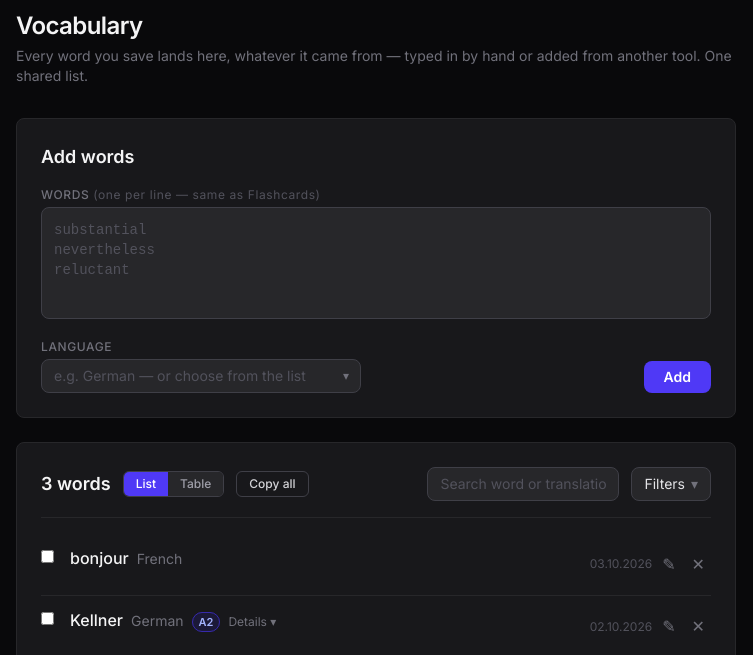
Scenario: in fullscreen › keeps the toolbar at the very top, with no room left for a navbar
This screenshot has width=753, height=655.
Click the button "Table".
click(196, 484)  # box [168,472,223,496]
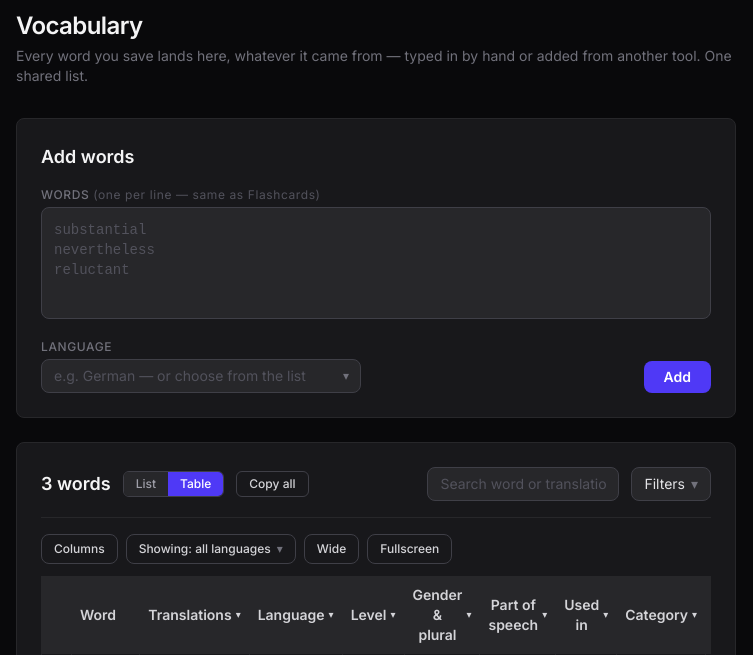
Click the button "Fullscreen".
click(410, 549)  # box [367,534,452,564]
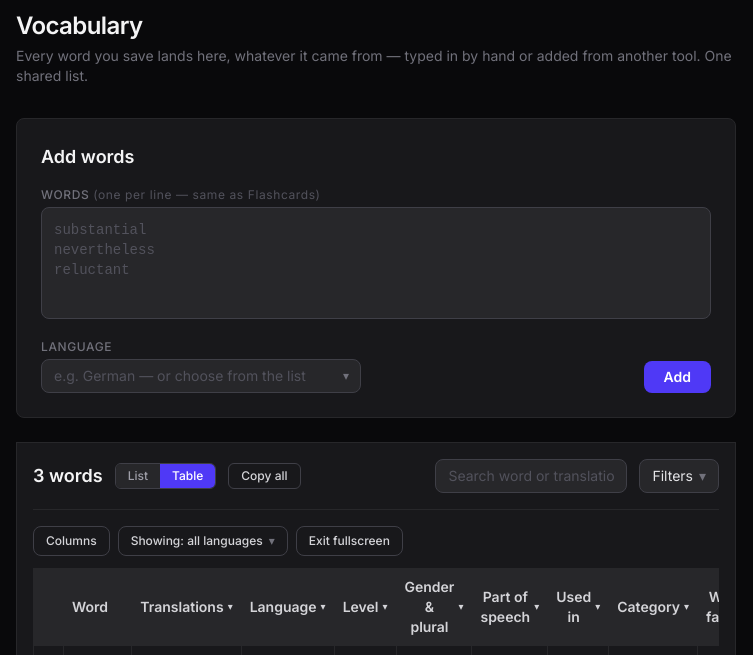
Expected: the text "3 words" has class "top-0", [33,459,719,510]
Expected: the text "3 words" does not have class "top-(--nav-height)", [33,459,719,510]
